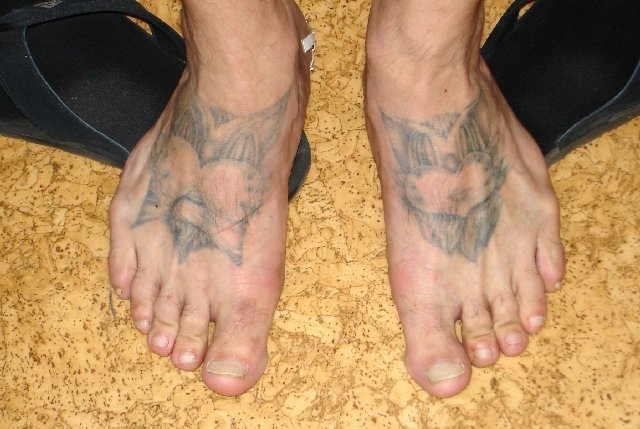tatu8_kot: (352, 93, 554, 276), (125, 94, 300, 282)
